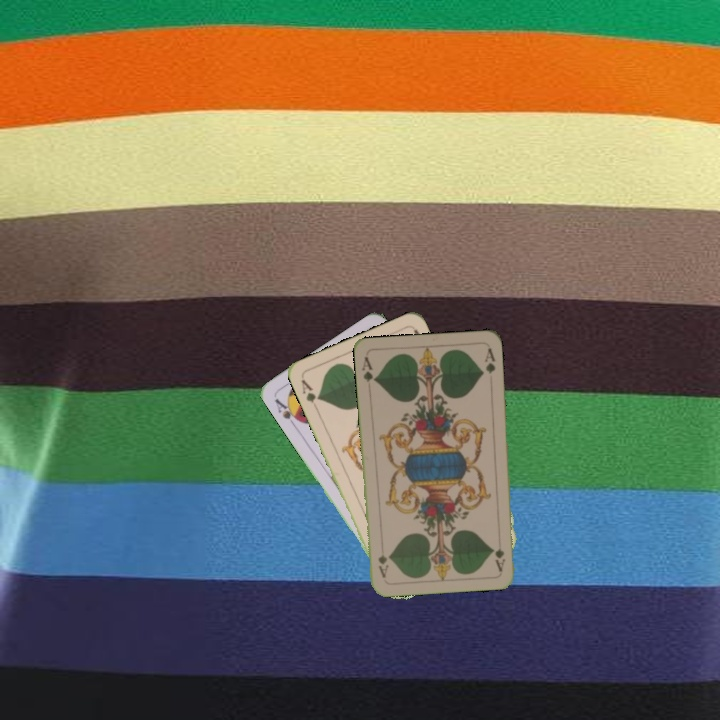GA: (297, 375, 323, 413), (358, 352, 379, 385), (491, 544, 508, 573)
SA: (271, 394, 304, 429)
